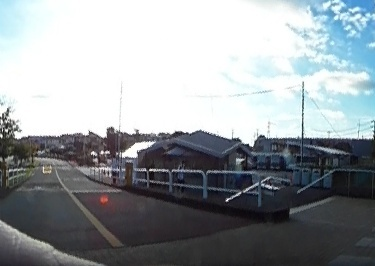person: (175, 159, 186, 190), (108, 153, 120, 181)
